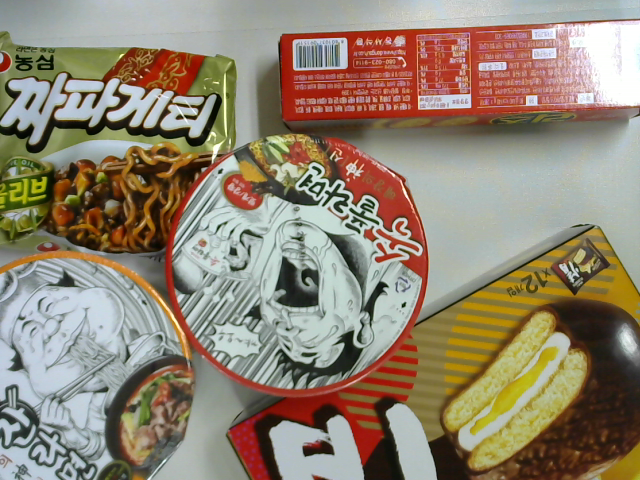Choco_Pie_Banana: (223, 217, 639, 478)
Hejangchan: (1, 248, 201, 476)
Hejangpul: (164, 136, 431, 402)
Olive_Chapaghetti: (1, 27, 241, 262)
Ritz_Cracker: (273, 12, 640, 135)
